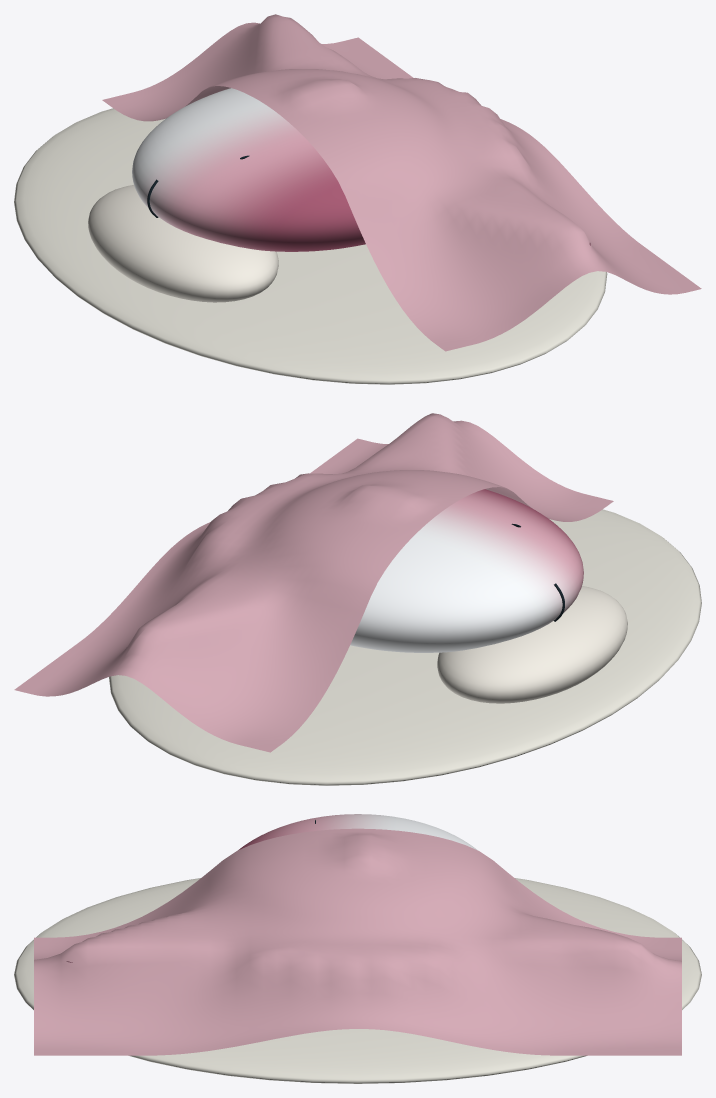
File: covered.glb
The picture shows the model from 3 angles, top to bottom: view 1: azimuth 30°, elevation 25°; view 2: azimuth 150°, elevation 25°; view 3: azimuth 270°, elevation 25°; orthographic projection. The views are drawn at different scales.
Visible parts, largest first — view 1: KiabouBlanket, KiabouBed, KiabouRestBody, KiabouPillow; view 2: KiabouBlanket, KiabouBed, KiabouRestBody, KiabouPillow; view 3: KiabouBlanket, KiabouBed, KiabouRestBody.
Boxes of the visible parts, x1,y1,x2,y2 form: KiabouBlanket: (102, 14, 701, 351); KiabouBed: (14, 108, 607, 384); KiabouRestBody: (132, 88, 590, 251); KiabouPillow: (88, 185, 278, 302); KiabouBlanket: (14, 413, 613, 752); KiabouBed: (109, 509, 701, 785); KiabouRestBody: (350, 489, 583, 652); KiabouPillow: (437, 586, 627, 703); KiabouBlanket: (34, 828, 681, 1055); KiabouBed: (14, 878, 701, 1083); KiabouRestBody: (66, 814, 477, 962).
Bounding box in the file's own units: 0.228 × 0.0768 × 0.308.
7 materials, 3 textured.
